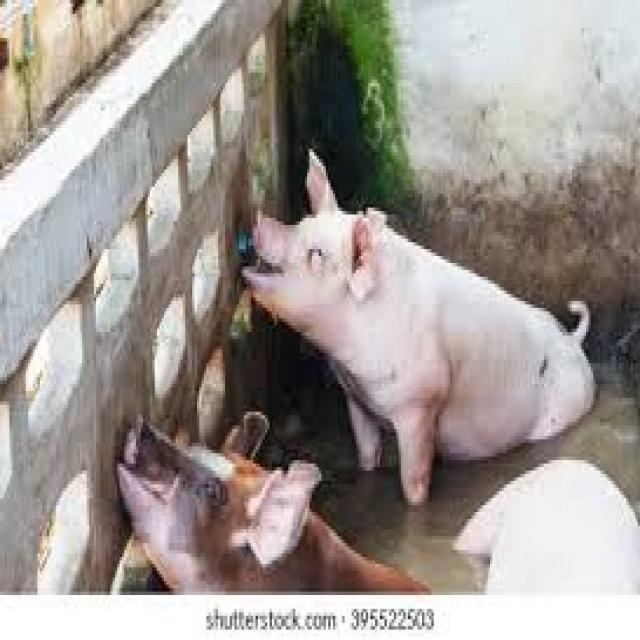pig: (245, 152, 594, 503), (118, 412, 428, 592), (454, 460, 640, 594)
